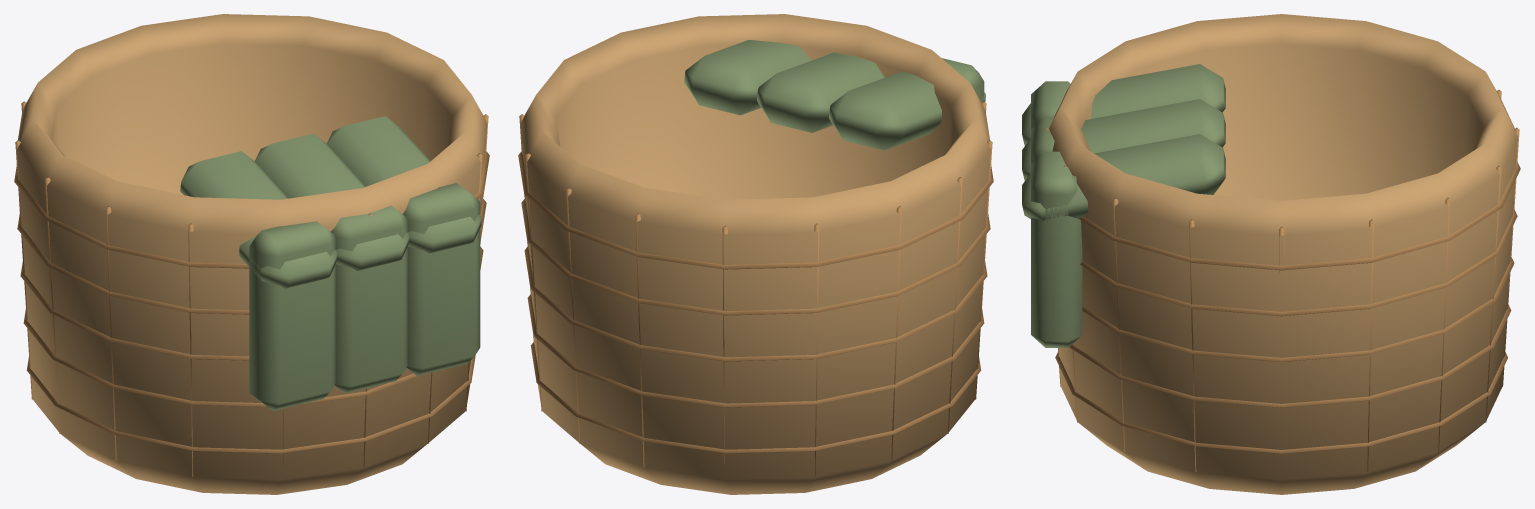
File: basket.glb
The picture shows the model from 3 angles, left to right: view 1: azimuth 30°, elevation 25°; view 2: azimuth 150°, elevation 25°; view 3: azimuth 270°, elevation 25°; orthographic projection.
Visible parts, largest first — view 1: basket_basket, basket_blanket_drop_0, basket_blanket_drop_2, basket_blanket_drop_1, basket_blanket_fold_1, basket_blanket_fold_2, basket_blanket_fold_0, basket_weave_0, basket_weave_1, basket_weave_4, basket_weave_3, basket_weave_2; view 2: basket_basket, basket_blanket_fold_0, basket_blanket_fold_1, basket_blanket_fold_2, basket_weave_4, basket_weave_3, basket_weave_2, basket_weave_1, basket_weave_0, basket_blanket_drop_0; view 3: basket_basket, basket_blanket_drop_2, basket_blanket_fold_2, basket_blanket_fold_1, basket_blanket_fold_0, basket_weave_4, basket_weave_3, basket_weave_0, basket_weave_2, basket_weave_1, basket_blanket_drop_0, basket_blanket_drop_1.
Boxes of the visible parts, <box> form: basket_basket: <box>17,14,487,494</box>; basket_blanket_drop_0: <box>249,221,335,410</box>; basket_blanket_drop_2: <box>402,183,480,375</box>; basket_blanket_drop_1: <box>331,205,407,393</box>; basket_blanket_fold_1: <box>254,133,409,270</box>; basket_blanket_fold_2: <box>326,116,481,253</box>; basket_blanket_fold_0: <box>180,151,337,288</box>; basket_weave_0: <box>26,355,475,453</box>; basket_weave_1: <box>23,309,418,407</box>; basket_weave_4: <box>14,151,489,268</box>; basket_weave_3: <box>17,199,486,314</box>; basket_weave_2: <box>20,247,483,360</box>; basket_basket: <box>520,14,990,494</box>; basket_blanket_fold_0: <box>829,71,985,150</box>; basket_blanket_fold_1: <box>757,52,884,132</box>; basket_blanket_fold_2: <box>684,40,811,115</box>; basket_weave_4: <box>518,151,993,269</box>; basket_weave_3: <box>521,199,990,315</box>; basket_weave_2: <box>524,247,987,361</box>; basket_weave_1: <box>527,294,984,407</box>; basket_weave_0: <box>530,342,981,453</box>; basket_blanket_drop_0: <box>942,58,984,102</box>; basket_basket: <box>1049,14,1517,494</box>; basket_blanket_drop_2: <box>1031,151,1082,347</box>; basket_blanket_fold_2: <box>1022,134,1225,220</box>; basket_blanket_fold_1: <box>1022,99,1225,180</box>; basket_blanket_fold_0: <box>1022,64,1225,145</box>; basket_weave_4: <box>1078,162,1520,270</box>; basket_weave_3: <box>1080,209,1517,316</box>; basket_weave_0: <box>1055,352,1507,453</box>; basket_weave_2: <box>1082,257,1514,361</box>; basket_weave_1: <box>1069,304,1511,407</box>; basket_blanket_drop_0: <box>1031,81,1070,128</box>; basket_blanket_drop_1: <box>1031,116,1054,163</box>.
Size of the model in its own units: 0.606 by 0.43 by 0.6319.
